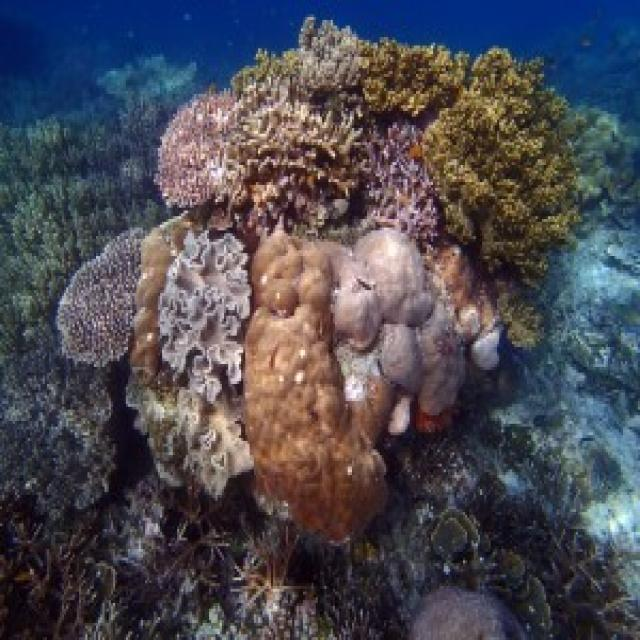Healthy: (1, 95, 178, 362), (244, 231, 391, 541), (426, 473, 639, 638), (423, 49, 577, 277), (332, 229, 479, 425), (225, 78, 374, 234), (1, 331, 114, 519), (159, 231, 251, 405), (1, 496, 97, 638), (140, 391, 253, 499), (61, 231, 146, 365), (131, 217, 193, 388), (157, 92, 234, 203), (370, 123, 438, 240), (359, 41, 460, 118), (300, 18, 362, 86)
